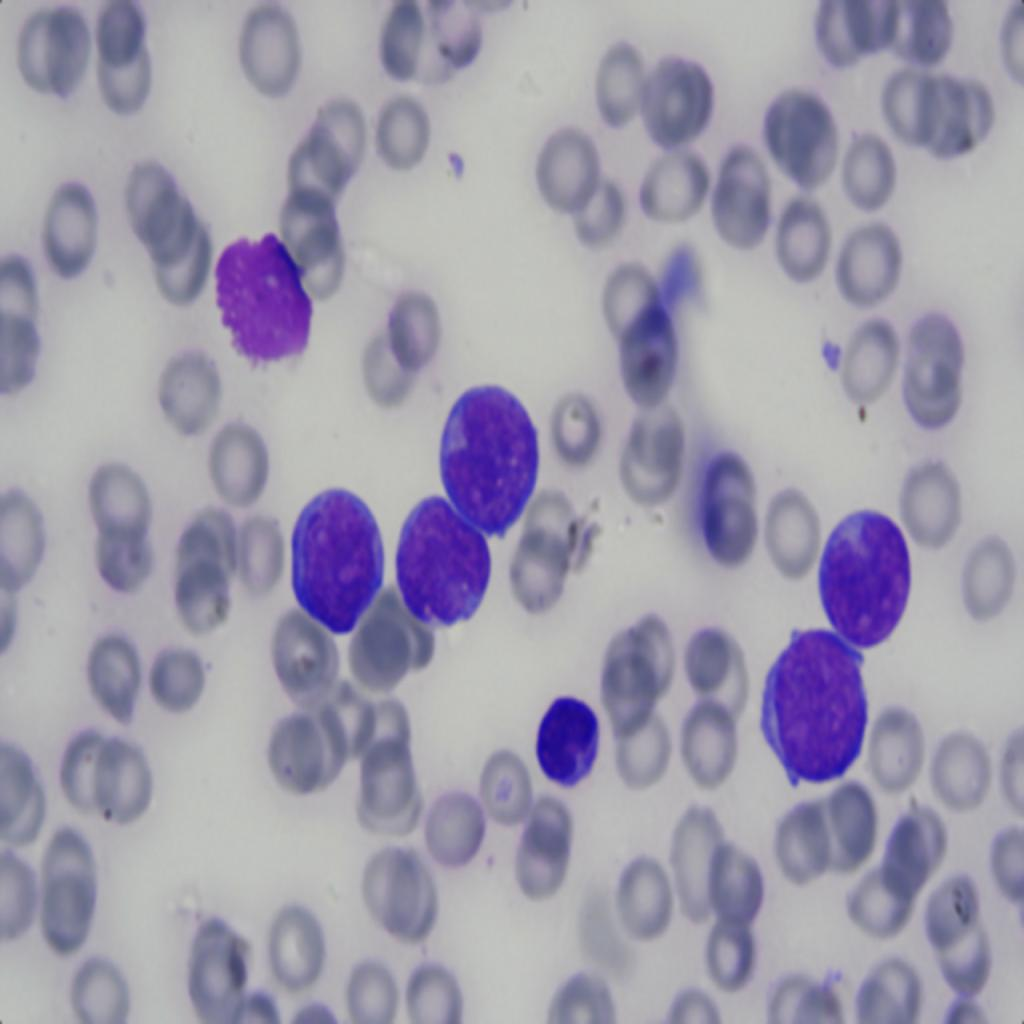Myeoblast: (757, 615, 868, 796), (288, 478, 390, 648), (204, 216, 322, 362), (440, 380, 540, 547), (811, 497, 912, 655), (390, 485, 492, 639), (533, 682, 602, 801)
Platelet: (439, 133, 468, 192), (818, 323, 845, 369)
